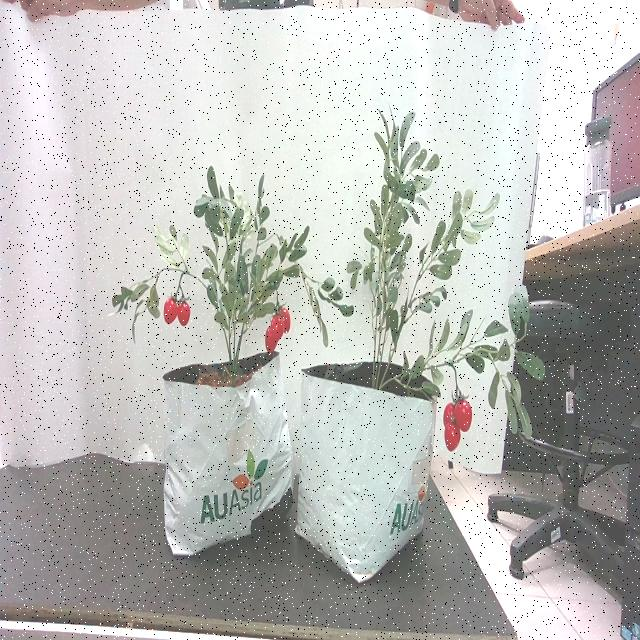Soilbag: (293, 363, 438, 585), (161, 353, 296, 559)
Tomato: (442, 387, 473, 454), (163, 276, 192, 329), (264, 308, 292, 358)
plant: (346, 108, 532, 438), (107, 166, 349, 381)
